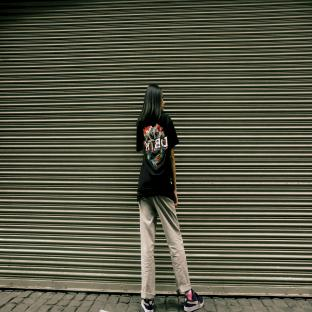Human: (136, 84, 203, 312)
